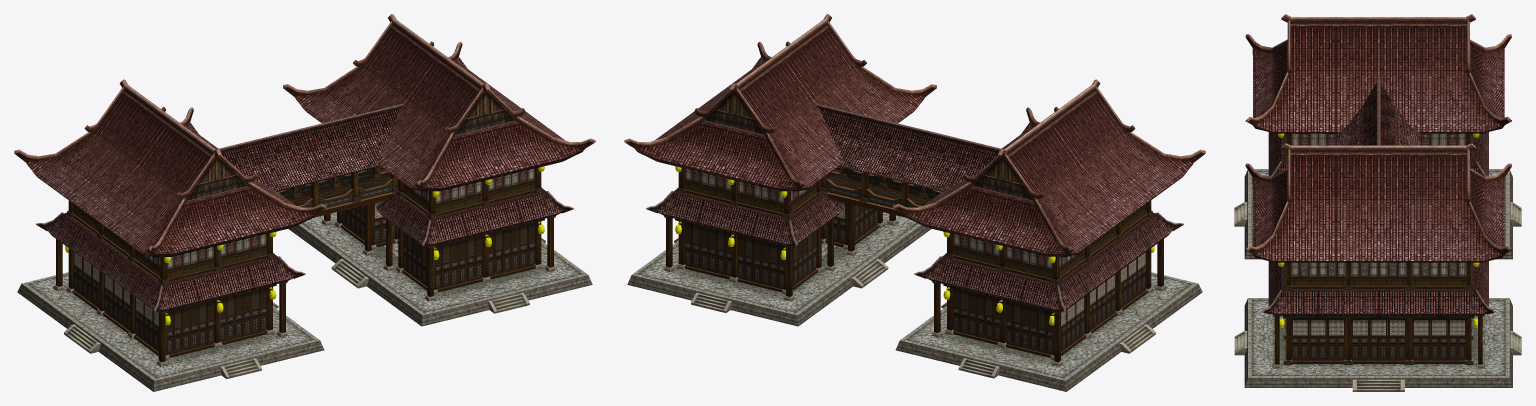
File: a1-009-hotel.glb
The picture shows the model from 3 angles, left to right: view 1: azimuth 30°, elevation 25°; view 2: azimuth 150°, elevation 25°; view 3: azimuth 270°, elevation 25°; orthographic projection.
Parts seen in each view (by area): view 1: lamp06; view 2: lamp06; view 3: lamp06.
Part boxes in pixels (bbox=[...]): lamp06: bbox=[14, 14, 595, 391]; lamp06: bbox=[624, 14, 1205, 391]; lamp06: bbox=[1234, 14, 1521, 391].
Bounding box in the file's own units: 35.89 × 15.6 × 19.9.
Materials: 4 (4 with a texture image).
